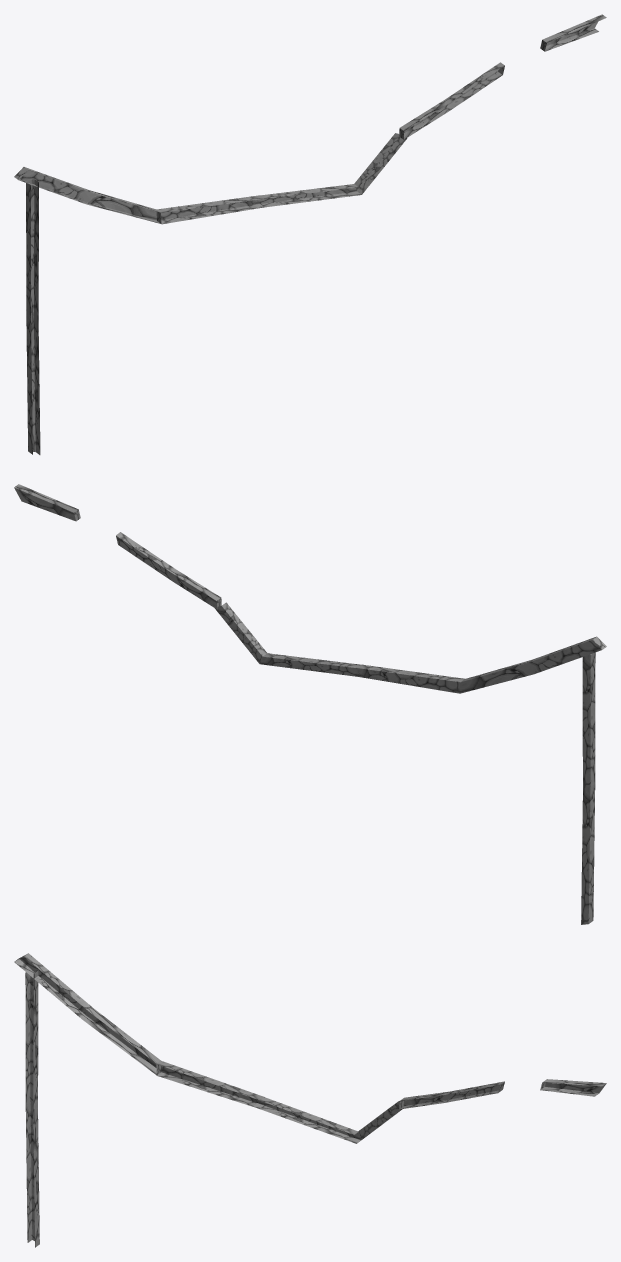
The model's file is tuong 12.fbx.
3 views of the same model, one above another, from view 1: azimuth 30°, elevation 25°; view 2: azimuth 150°, elevation 25°; view 3: azimuth 330°, elevation 25° (orthographic).
Parts seen in each view (by area): view 1: polySurface42, polySurface46, polySurface41, polySurface40; view 2: polySurface42, polySurface46, polySurface41, polySurface40; view 3: polySurface42, polySurface46, polySurface41, polySurface40.
Boxes of the visible parts, <box> form: polySurface42: <box>14,133,407,224</box>; polySurface46: <box>26,179,40,454</box>; polySurface41: <box>399,62,504,139</box>; polySurface40: <box>540,14,606,51</box>; polySurface42: <box>214,602,606,693</box>; polySurface46: <box>581,652,595,924</box>; polySurface41: <box>116,532,221,609</box>; polySurface40: <box>14,484,80,521</box>; polySurface42: <box>14,953,406,1143</box>; polySurface46: <box>25,969,39,1247</box>; polySurface41: <box>399,1081,504,1109</box>; polySurface40: <box>540,1079,606,1096</box>.
Bounding box in the file's own units: 15.72 × 7.64 × 0.2323.
1 material, 1 textured.
